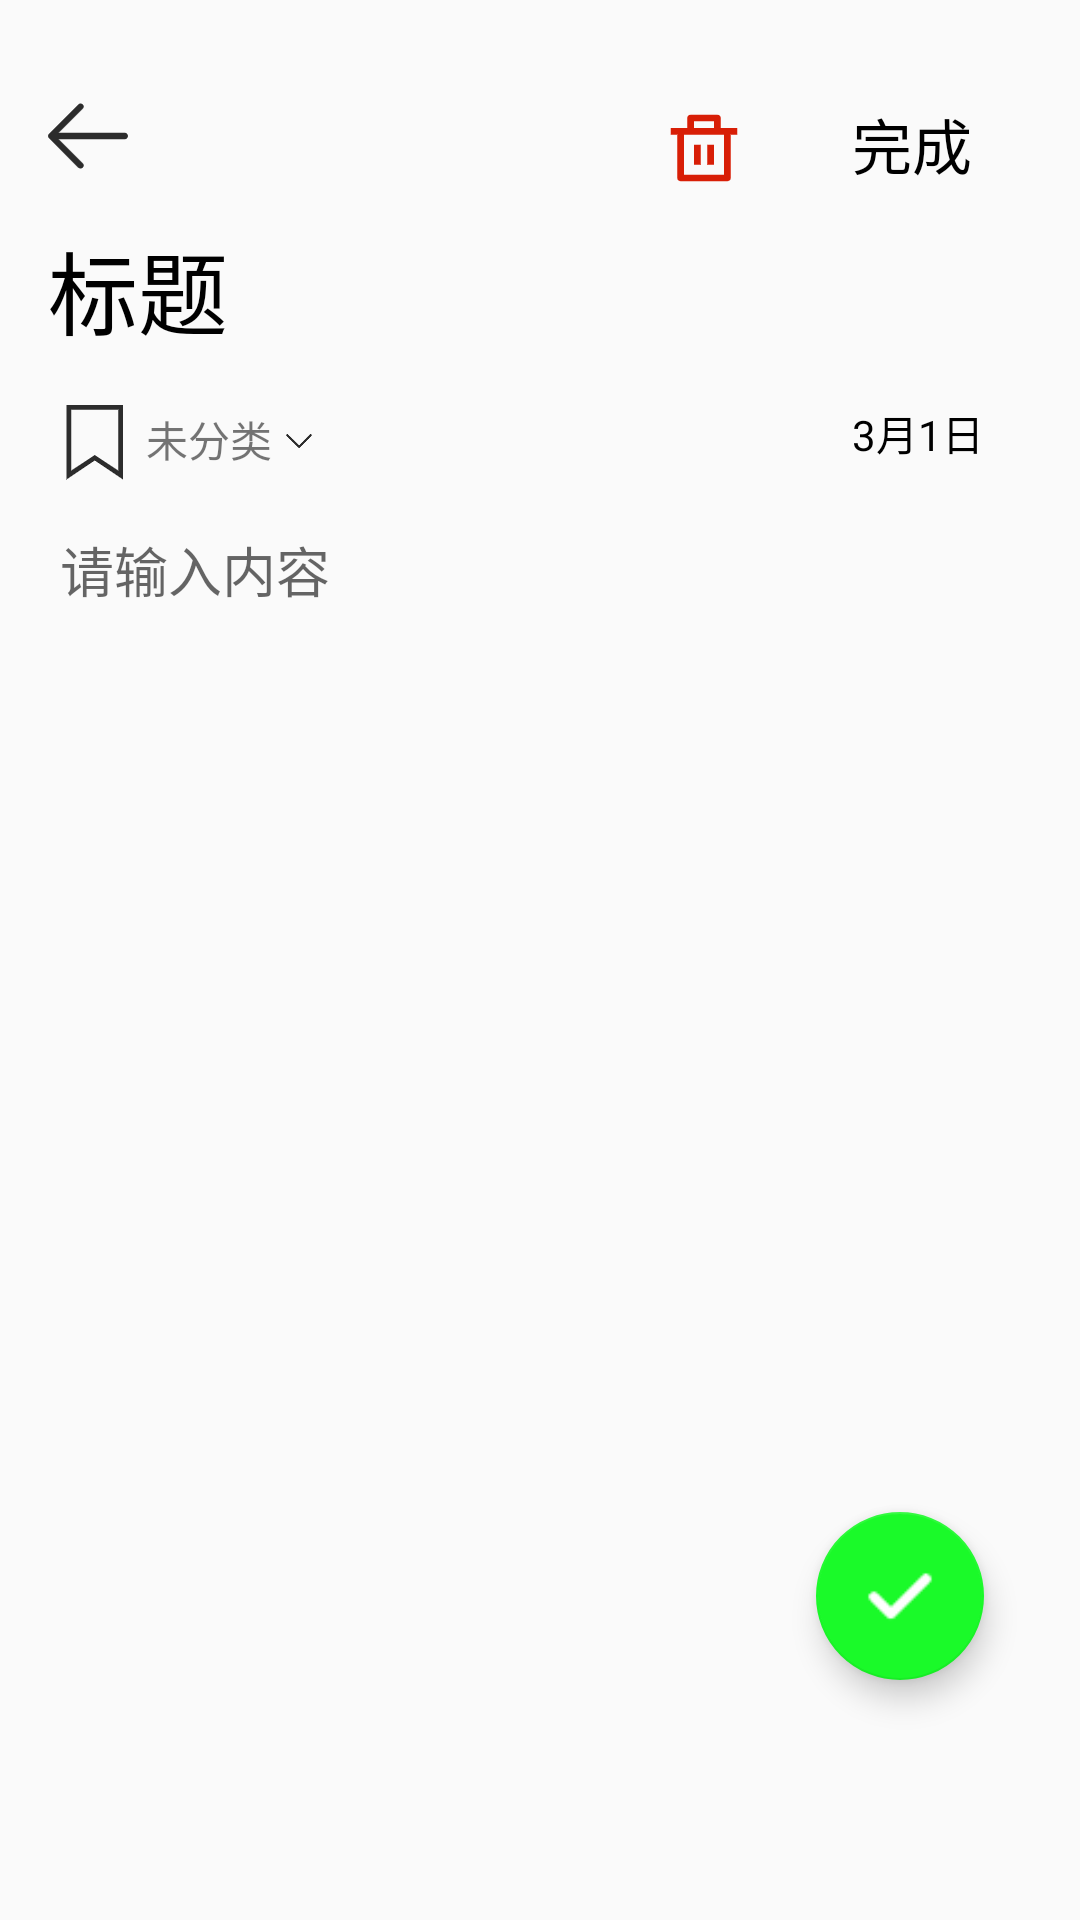

Named icons in this screenshot (1080×1920) and their centers, point (x, y):
back: point (88, 136)
book: point (94, 442)
delete: point (704, 148)
down: point (299, 441)
memo edit finish: point (900, 1596)
